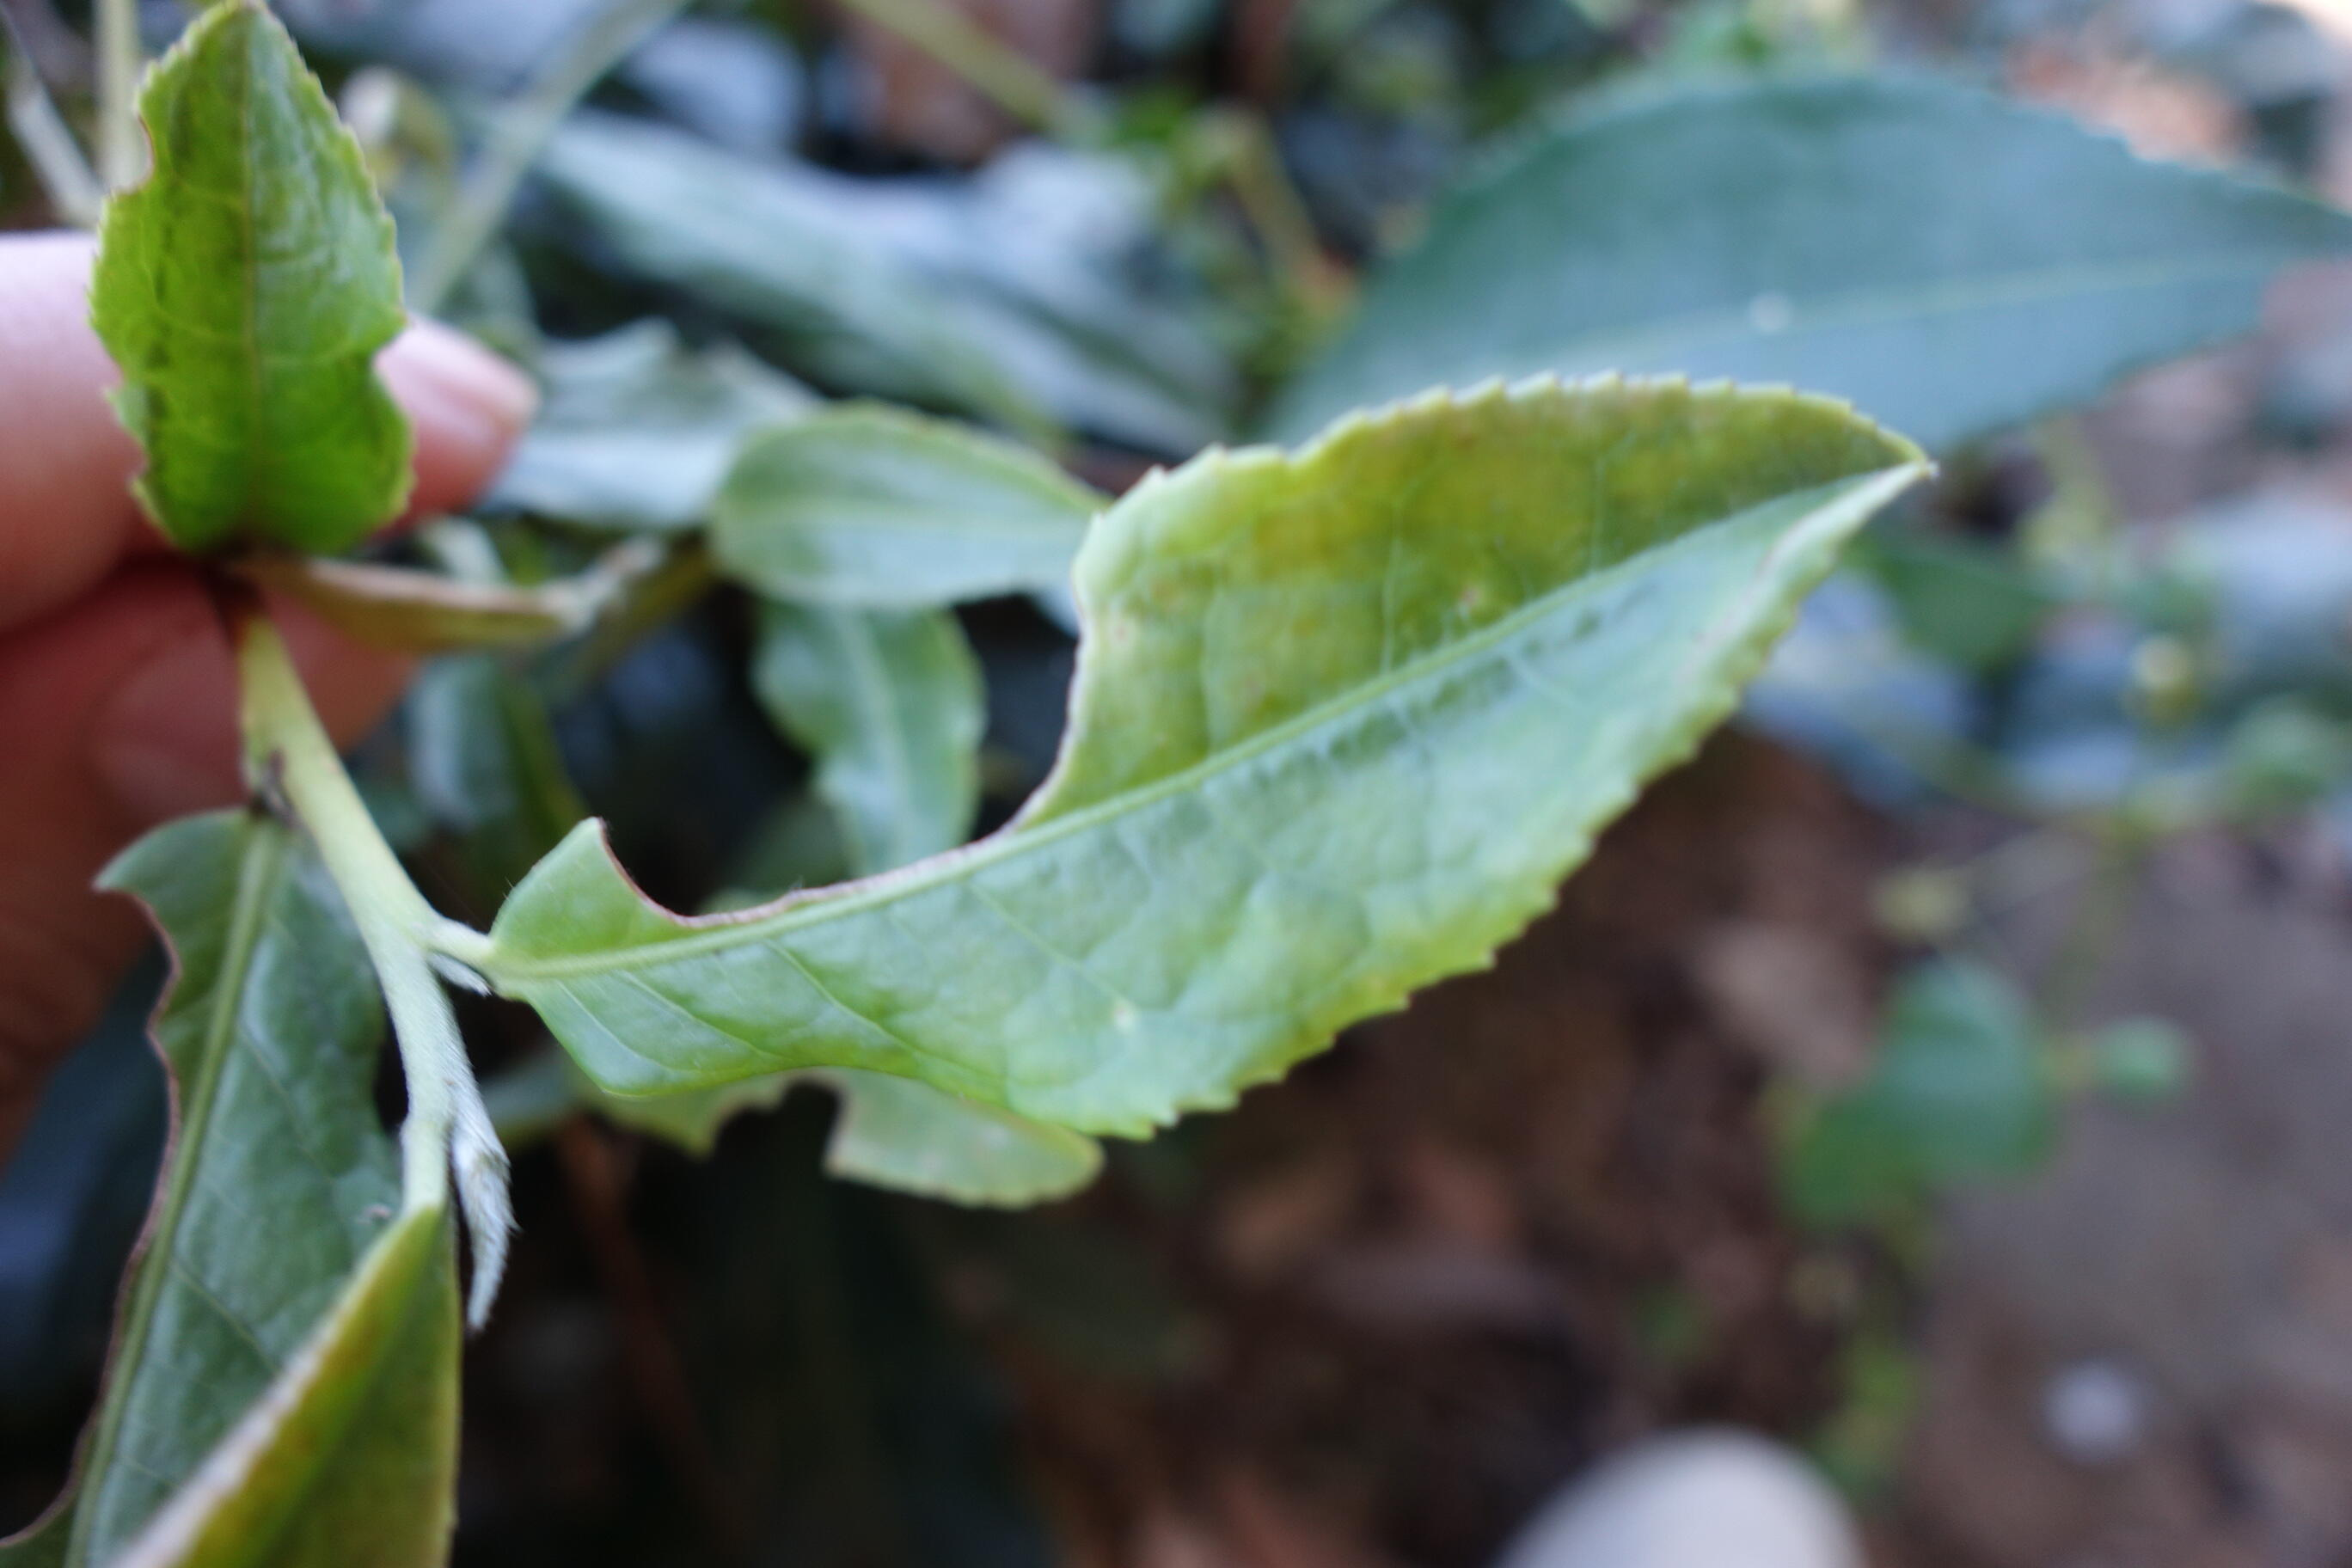chihuo_high: (0, 808, 462, 1568)
chihuo_low: (488, 367, 1939, 1146), (87, 5, 413, 562), (558, 1027, 1111, 1209)
